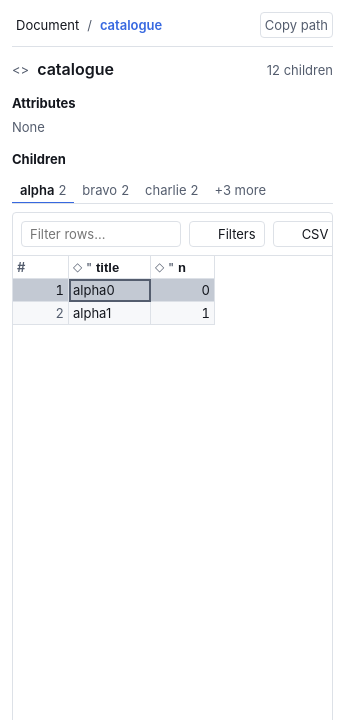
Test: R211 — one table at a time, a tab per group › a group chosen from the menu names itself on the more button and swaps the table
The width and height of the screenshot is (350, 720).
Click the button with class "grid-group-more-button" at (250, 190), box [206,175,294,204]
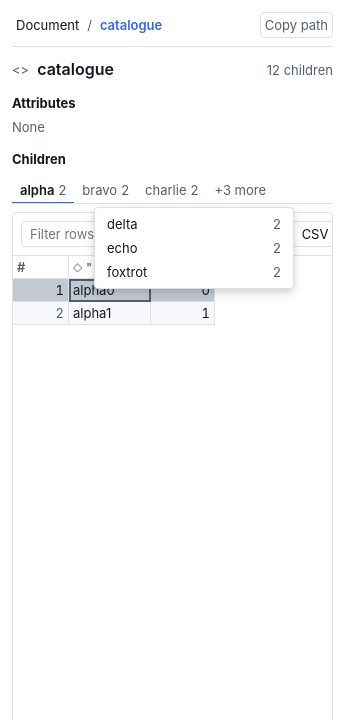
Now the menu item with class "grid-group-menu-item" shows "foxtrot"
Click the menu item with class "grid-group-menu-item" showing "foxtrot 2" at (194, 272), box [99,260,289,284]
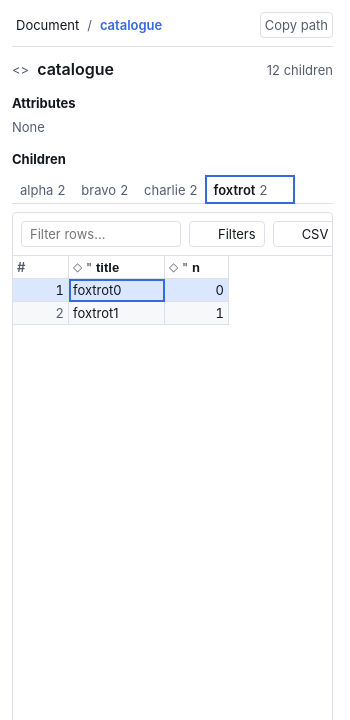
Now the button with class "grid-group-more-button" shows "foxtrot", box [205,175,295,204]
